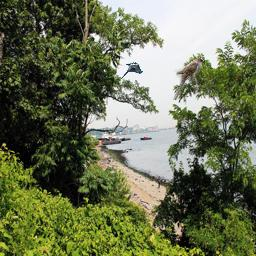Cuckoo: (173, 58, 205, 101), (121, 61, 144, 79)
